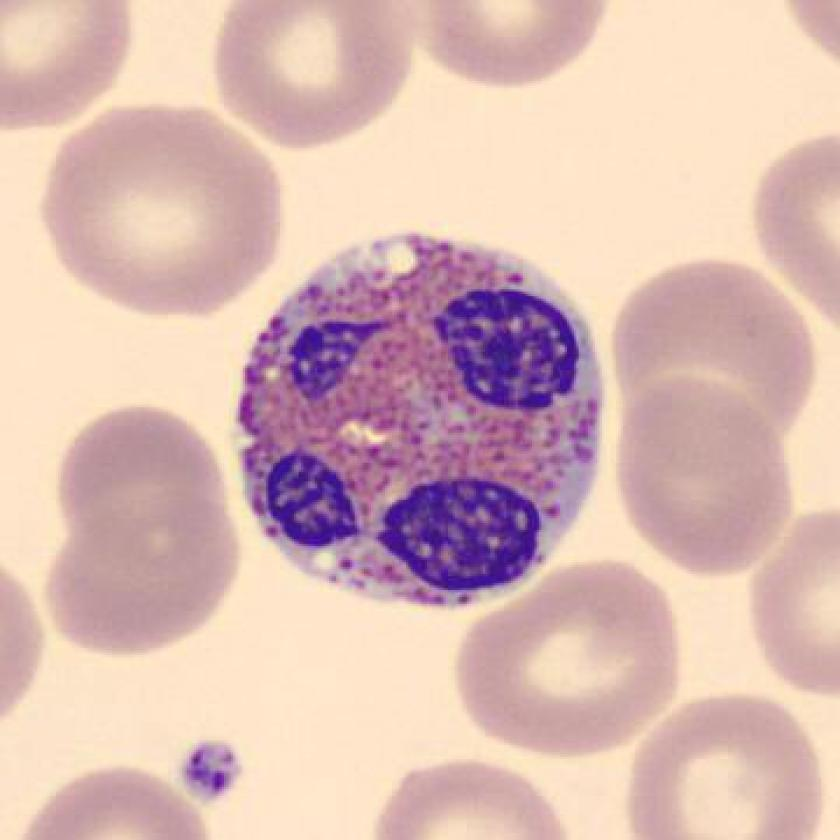eosinophil: (225, 212, 617, 631)
